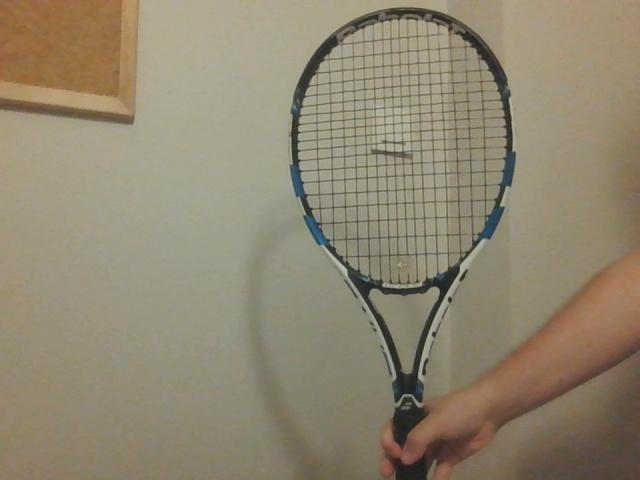Tennis-Racket: (289, 3, 516, 480)
